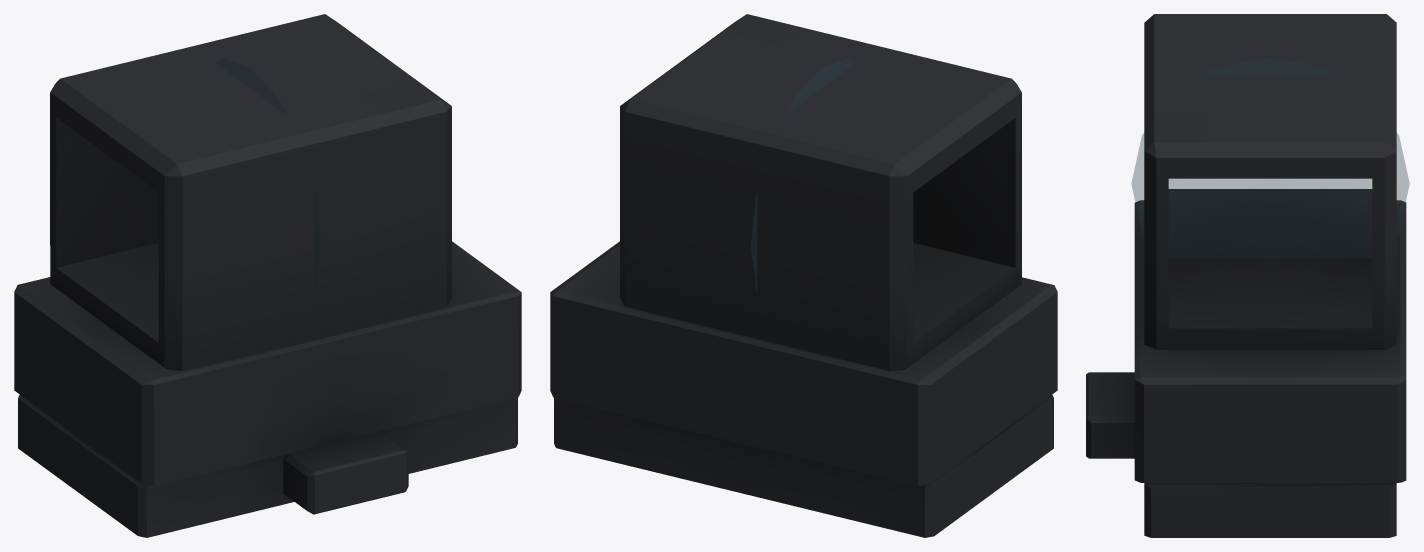
Rendered from k-att-reddot-lprabiertocompacto.glb.
3 renders of one model, left to right at view 1: azimuth 30°, elevation 25°; view 2: azimuth 150°, elevation 25°; view 3: azimuth 270°, elevation 25°, orthographic.
Visible parts, largest first — view 1: kit, lens; view 2: kit, lens; view 3: kit, lens.
Part boxes in pixels (x1,y1,x2,y2): kit: (14, 14, 521, 537); lens: (216, 58, 320, 291); kit: (550, 14, 1057, 537); lens: (751, 58, 855, 291); kit: (1086, 14, 1406, 537); lens: (1131, 58, 1409, 258).
Size of the model in its own units: 0.045 by 0.0433 by 0.0333.
